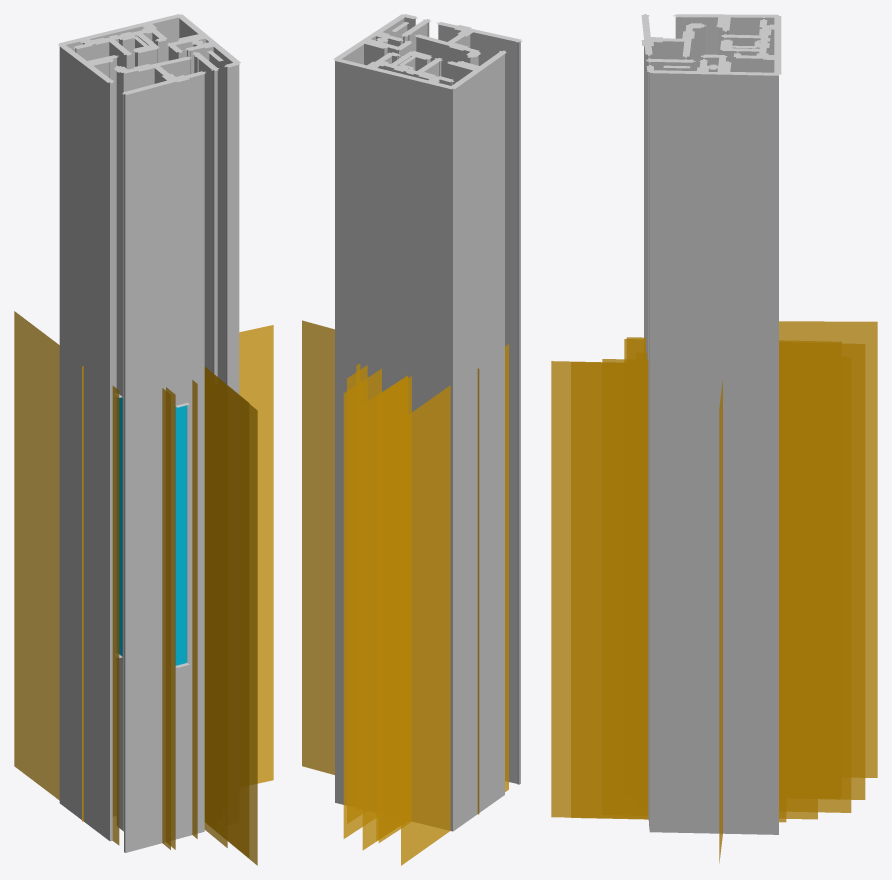
The model's file is 5aa1dc04-2d5a-4a07-bb65-2eb857a7fed5.glb.
3 views of the same model, side by side, from view 1: azimuth 30°, elevation 25°; view 2: azimuth 150°, elevation 25°; view 3: azimuth 270°, elevation 25° (orthographic). The views are drawn at different scales.
Visible parts, largest first — view 1: walls, doors, windows, roof; view 2: walls, doors, roof; view 3: walls, doors, roof.
Boxes of the visible parts, left/top/right/bottom form: walls: left=59, top=17, right=239, bottom=852; doors: left=14, top=311, right=273, bottom=865; windows: left=118, top=397, right=187, bottom=665; roof: left=58, top=14, right=240, bottom=94; walls: left=335, top=17, right=520, bottom=831; doors: left=302, top=320, right=508, bottom=865; roof: left=333, top=14, right=522, bottom=89; walls: left=641, top=17, right=778, bottom=834; doors: left=551, top=321, right=877, bottom=863; roof: left=641, top=14, right=781, bottom=75.
Bounding box in the file's own units: 0.9068 × 3.5 × 1.36.
